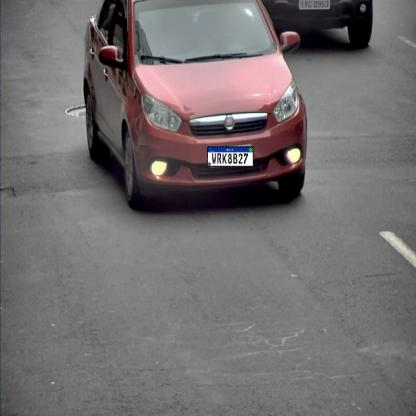PlacaM: (207, 146, 254, 167)
